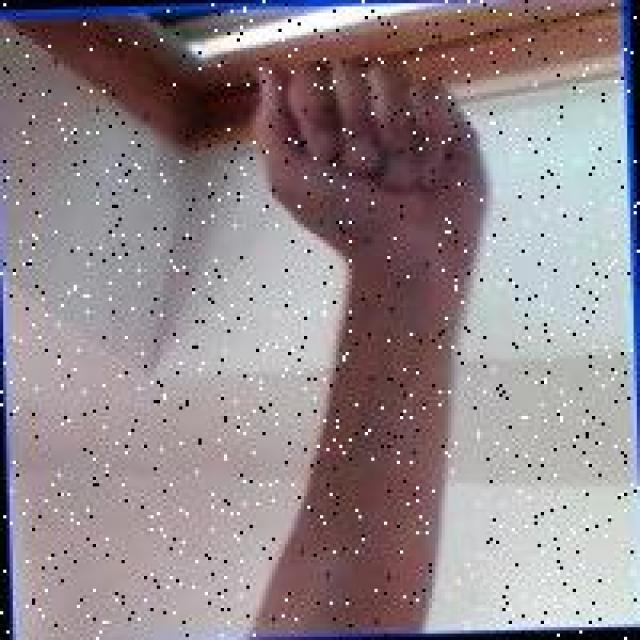A: (245, 46, 491, 296)
